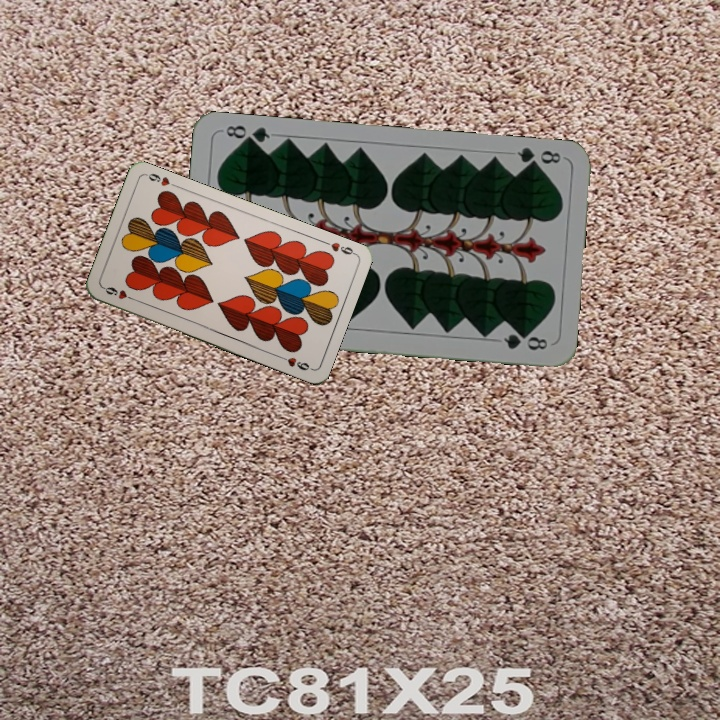G8: (513, 143, 564, 172)
H9: (100, 283, 139, 304), (319, 236, 358, 257)
